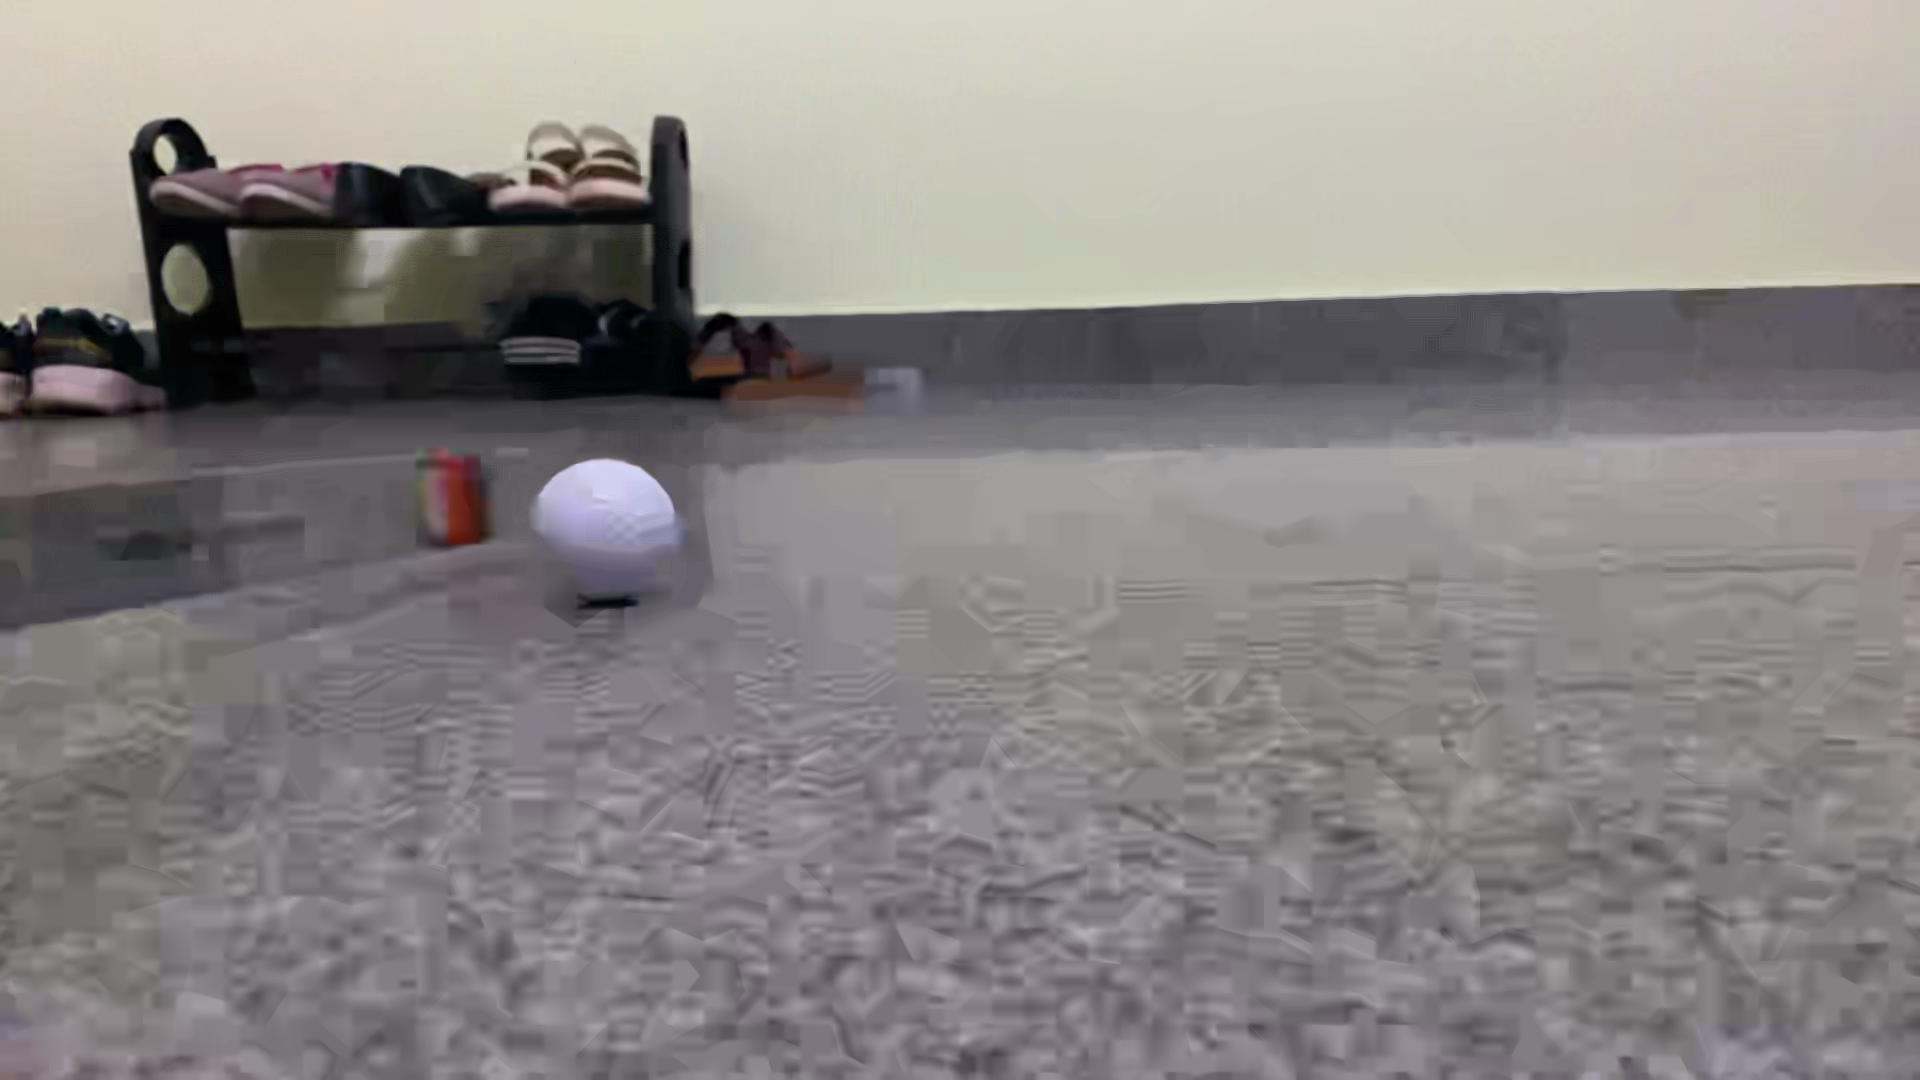golfball: (527, 459, 679, 605)
